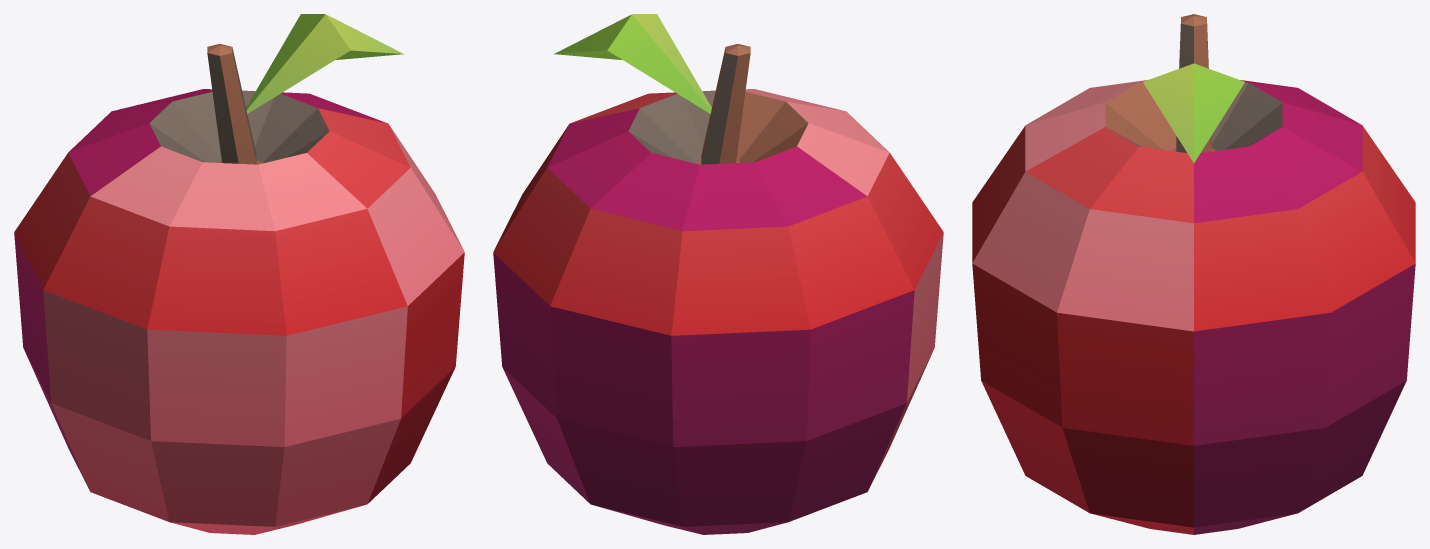
Rendered from source.glb.
The picture shows the model from 3 angles, left to right: view 1: azimuth 30°, elevation 25°; view 2: azimuth 150°, elevation 25°; view 3: azimuth 270°, elevation 25°; orthographic projection. The views are drawn at different scales.
Parts seen in each view (by area): view 1: model; view 2: model; view 3: model.
Boxes of the visible parts, x1,y1,x2,y2 form: model: (14,14,464,534); model: (493,14,943,534); model: (972,14,1415,534).
Size of the model in its own units: 0.5 by 0.572 by 0.4755.
1 material, 1 textured.
